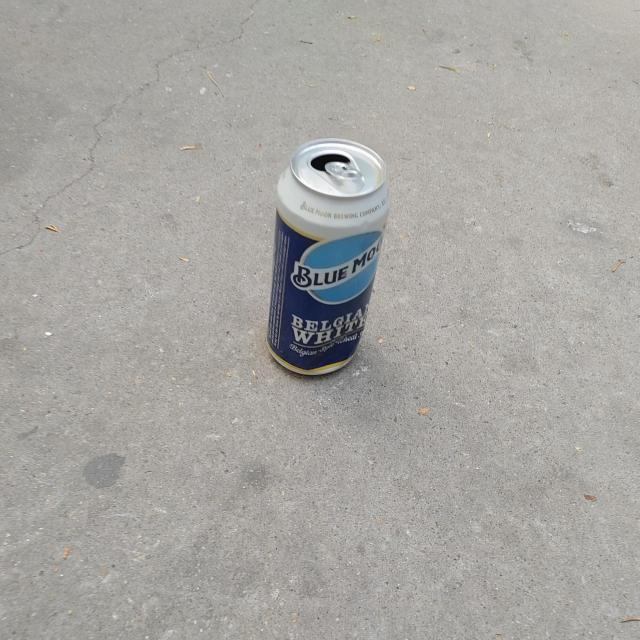can: (268, 138, 391, 375)
